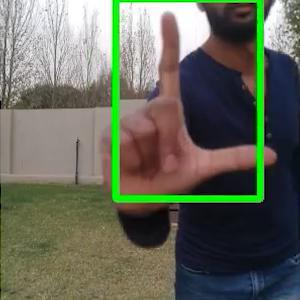land_hand: (98, 9, 281, 213)
